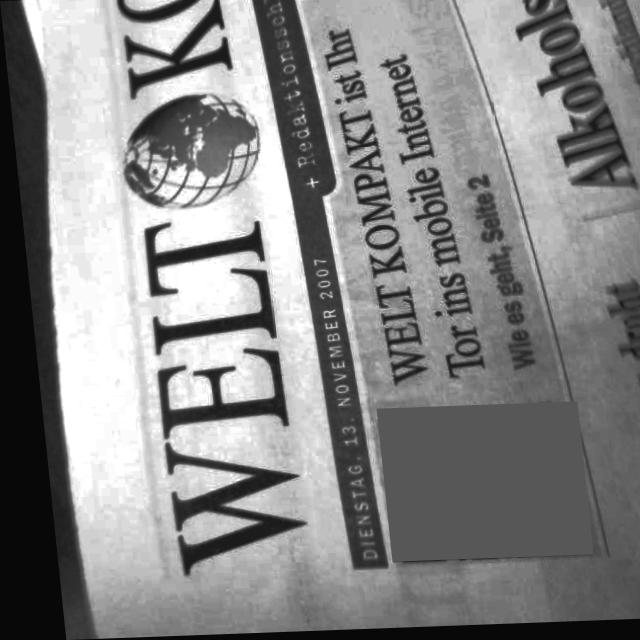qr_code: (367, 404, 581, 563)
